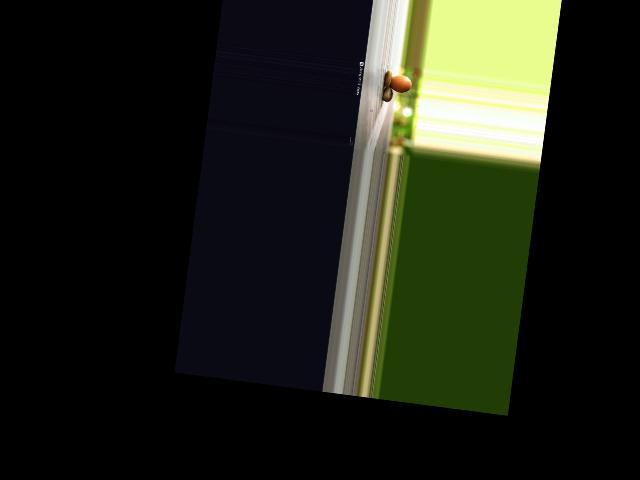egg: (389, 74, 412, 94)
